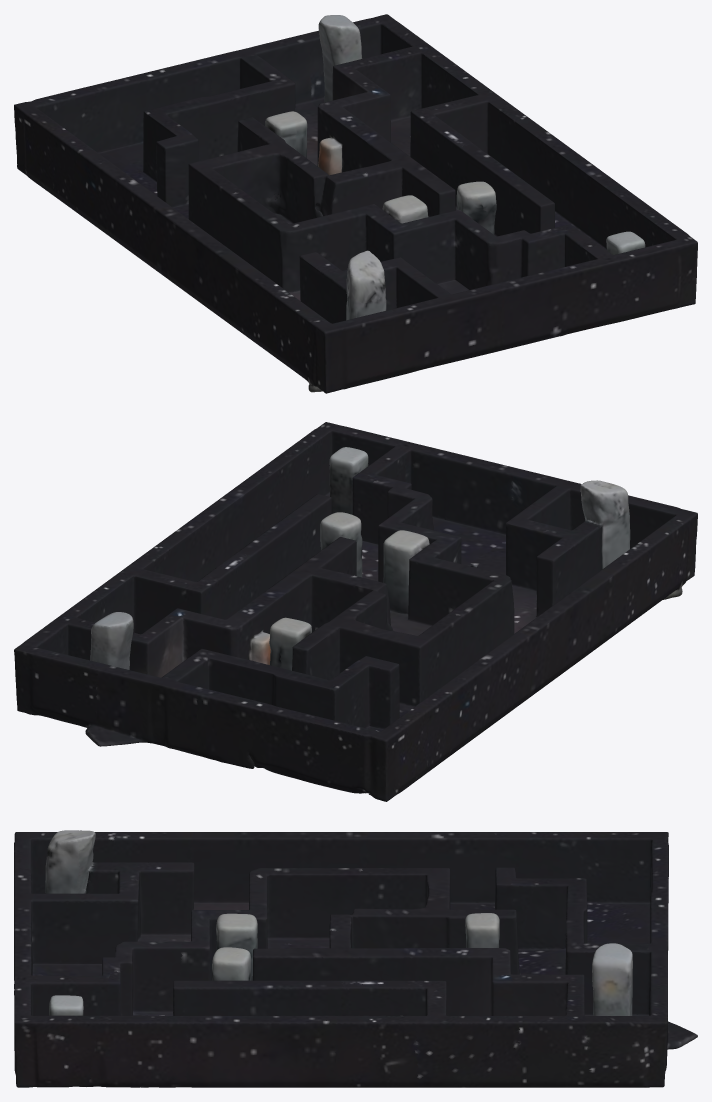
The model's file is mazepuzzle.glb.
The picture shows the model from 3 angles, top to bottom: view 1: azimuth 30°, elevation 25°; view 2: azimuth 150°, elevation 25°; view 3: azimuth 270°, elevation 25°; orthographic projection. The views are drawn at different scales.
Visible parts, largest first — view 1: tripo_node_827b2624-7c86-408d-b853-30f6c9434722; view 2: tripo_node_827b2624-7c86-408d-b853-30f6c9434722; view 3: tripo_node_827b2624-7c86-408d-b853-30f6c9434722.
Part boxes in pixels (bbox=[...]): tripo_node_827b2624-7c86-408d-b853-30f6c9434722: bbox=[14, 14, 697, 393]; tripo_node_827b2624-7c86-408d-b853-30f6c9434722: bbox=[14, 422, 697, 801]; tripo_node_827b2624-7c86-408d-b853-30f6c9434722: bbox=[14, 830, 697, 1087].
Bounding box in the file's own units: 0.6626 × 0.1851 × 1.
Materials: 1 (1 with a texture image).
